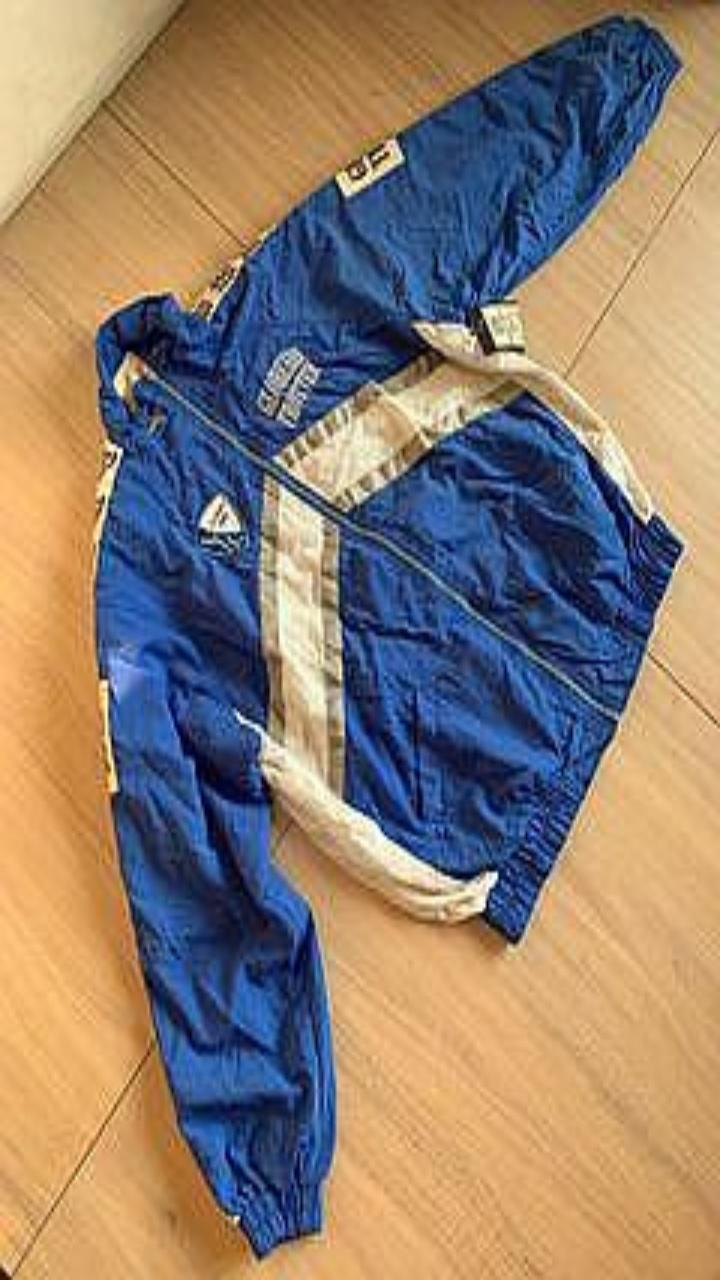Sports_Jacket: (97, 18, 679, 1253)
